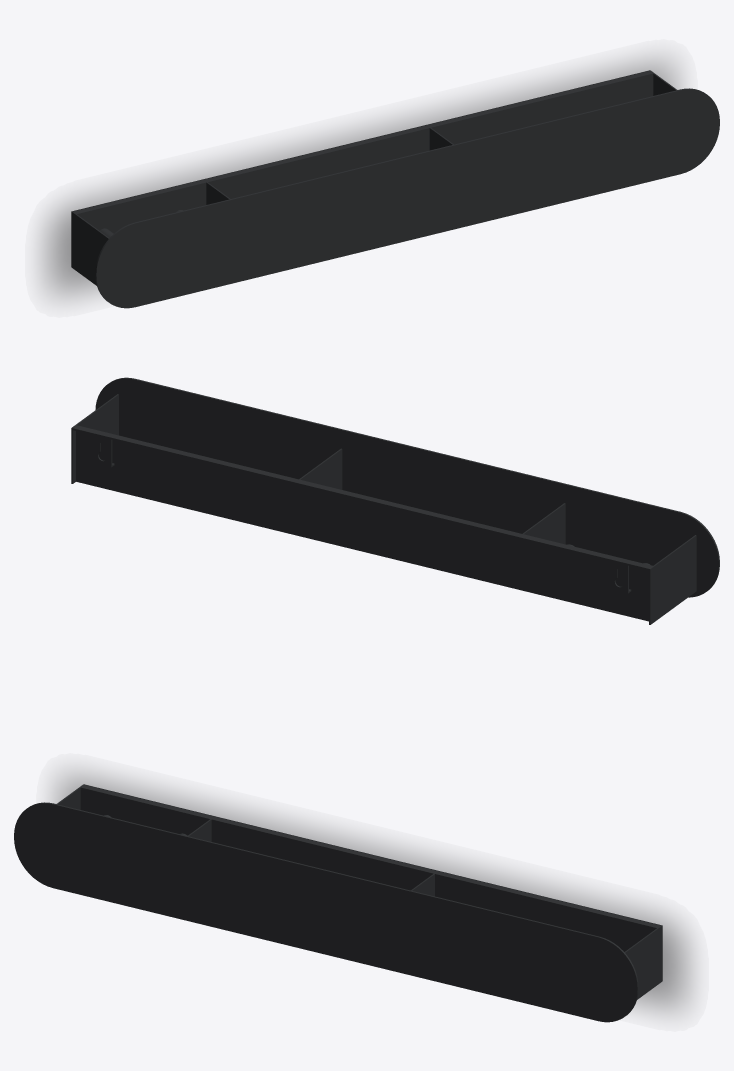
The model's file is round-patron.e4d9426330.ar.glb.
3 renders of one model, top to bottom at view 1: azimuth 30°, elevation 25°; view 2: azimuth 150°, elevation 25°; view 3: azimuth 330°, elevation 25°, orthographic.
Parts seen in each view (by area): view 1: NAUO1, object 2; view 2: NAUO1; view 3: NAUO1, object 2.
Part boxes in pixels (left/top/right/bottom): NAUO1: left=71, top=70, right=719, bottom=308; object 2: left=42, top=59, right=679, bottom=297; NAUO1: left=71, top=377, right=719, bottom=624; NAUO1: left=14, top=784, right=662, bottom=1022; object 2: left=54, top=773, right=691, bottom=1011.
Bounding box in the file's own units: 0.78 × 0.17 × 0.092.
2 materials, 1 textured.
